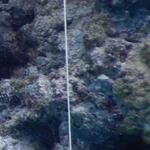dead: (77, 6, 146, 145)
